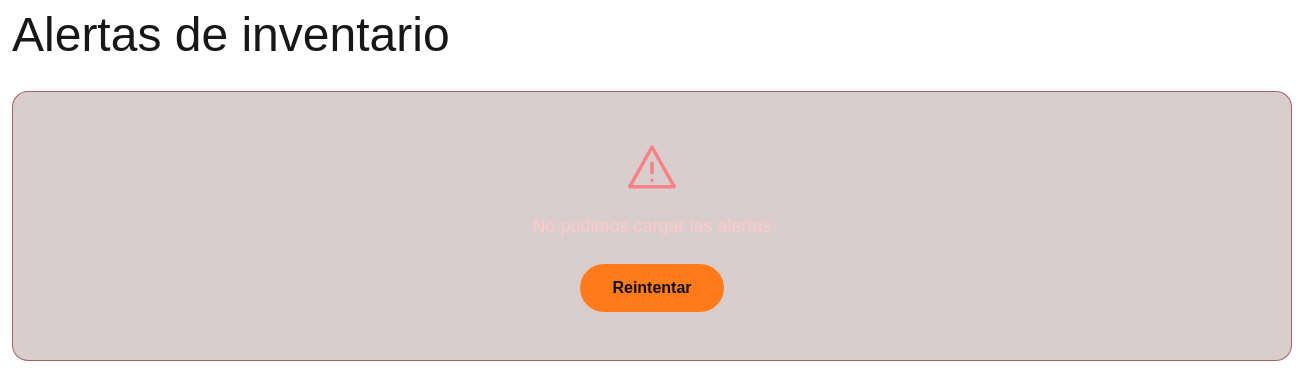
Scenario: panel de alertas (FE-15.1) › muestra error con Reintentar y vuelve a cargar
Later steps or results of the test are not shown.
Expected: the text "No pudimos cargar las alertas" is shown, x1=532 y1=216 x2=772 y2=236
Click the button "Reintentar" at point(652, 288), box x1=580 y1=264 x2=724 y2=312
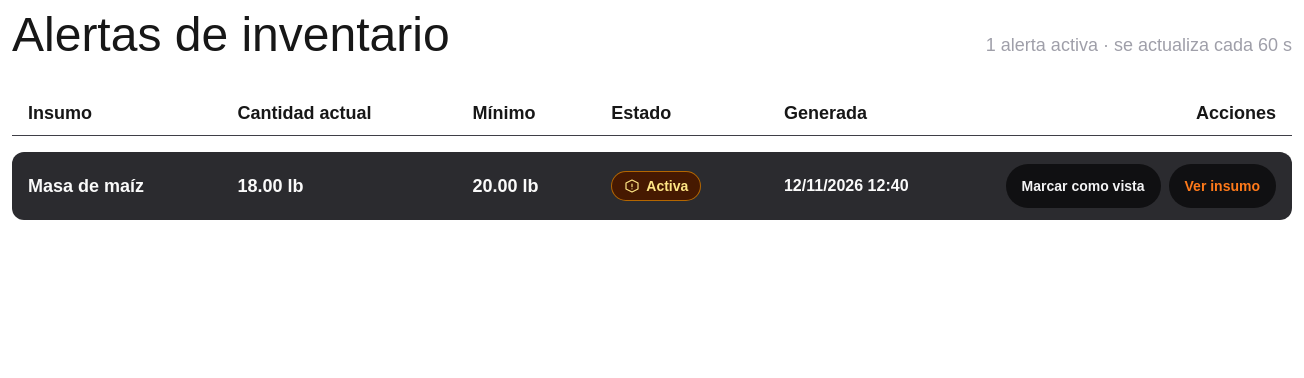
Now the column heading "Masa de maíz" is shown, box x1=12 y1=152 x2=222 y2=220
